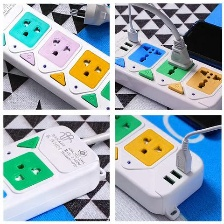three_eye_plug: (0, 0, 110, 109), (0, 124, 103, 223), (113, 112, 208, 217), (113, 24, 223, 109)
